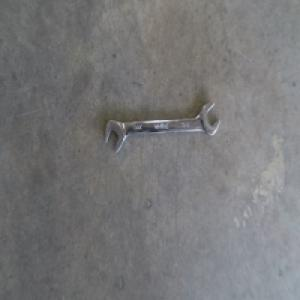Wrench: (106, 99, 223, 151)
